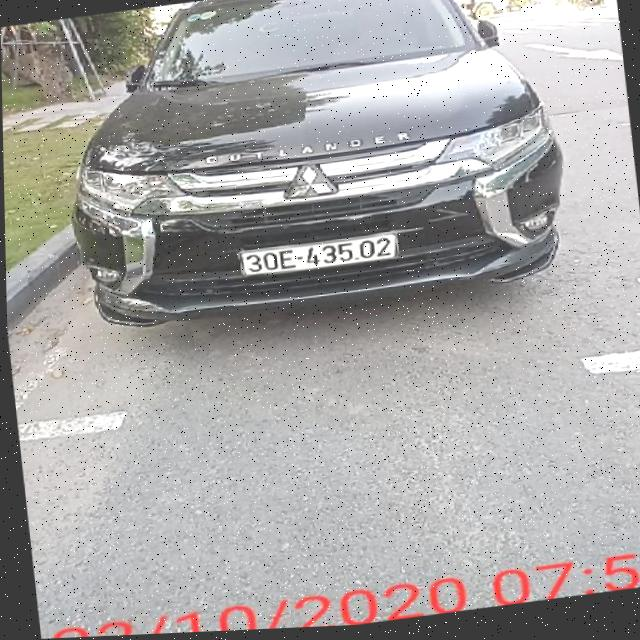car: (45, 0, 585, 351)
plate: (233, 224, 406, 286)
